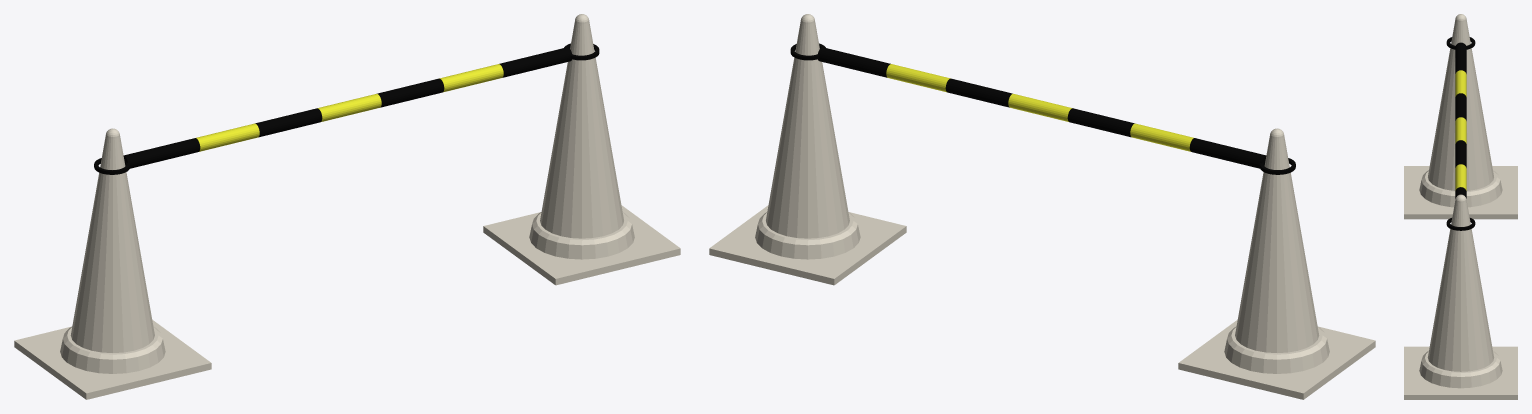
Rendered from corn.fbx.
3 renders of one model, left to right at view 1: azimuth 30°, elevation 25°; view 2: azimuth 150°, elevation 25°; view 3: azimuth 270°, elevation 25°, orthographic. The views are drawn at different scales.
Visible parts, largest first — view 1: bar; view 2: bar; view 3: bar.
Boxes of the visible parts, x1,y1,x2,y2 form: bar: [14, 14, 680, 399]; bar: [709, 14, 1375, 399]; bar: [1404, 14, 1517, 399].
Bounding box in the file's own units: 190 × 70 × 40.
